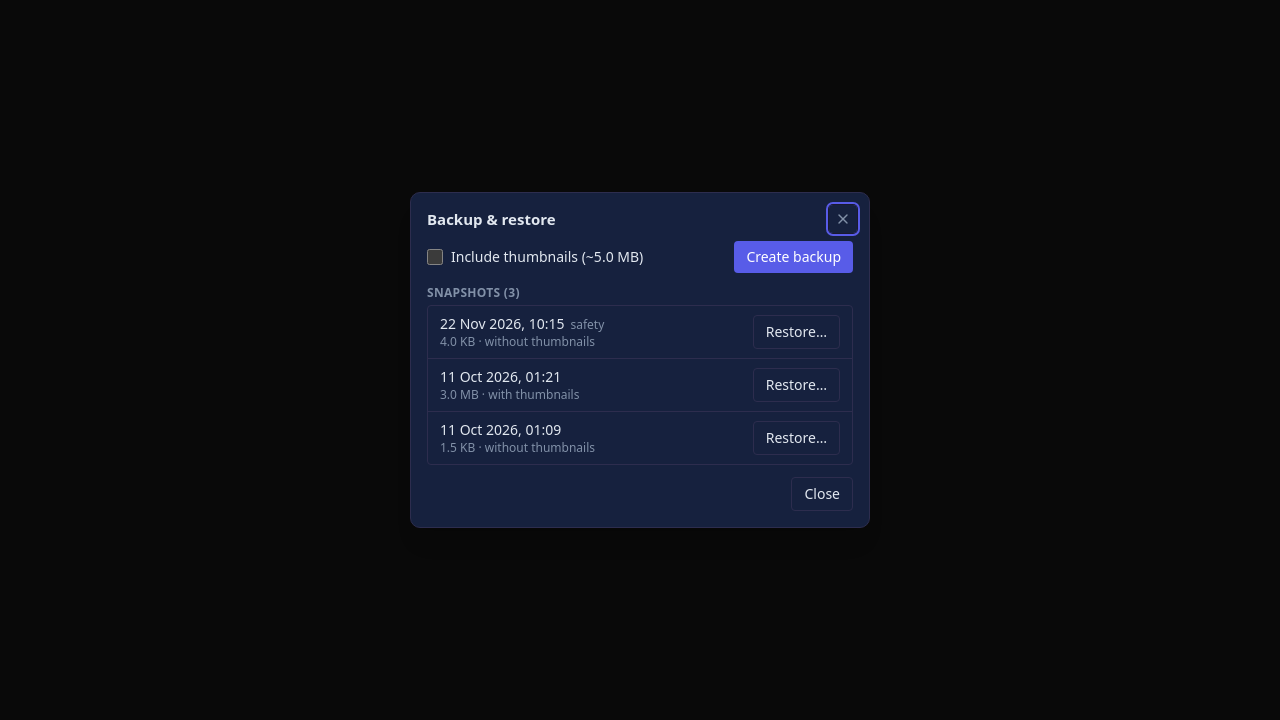
Test case: BackupRestoreDialog › create outcome {"status":200,"body":{"error":"disk full"}} is shown inline; no toast
Step 1. Click the button "Create backup" → (794, 257), box left=734, top=241, right=853, bottom=273
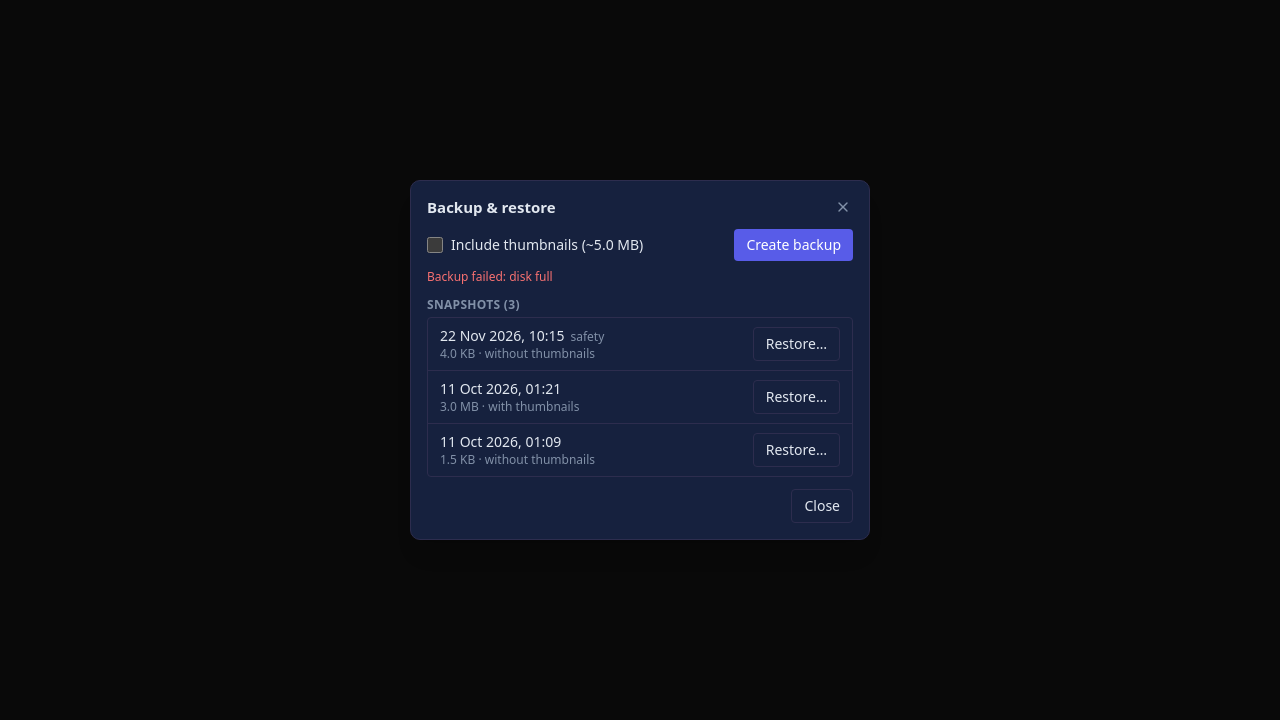
Expected: the message "Backup failed: disk full" is shown, left=427, top=268, right=553, bottom=285
